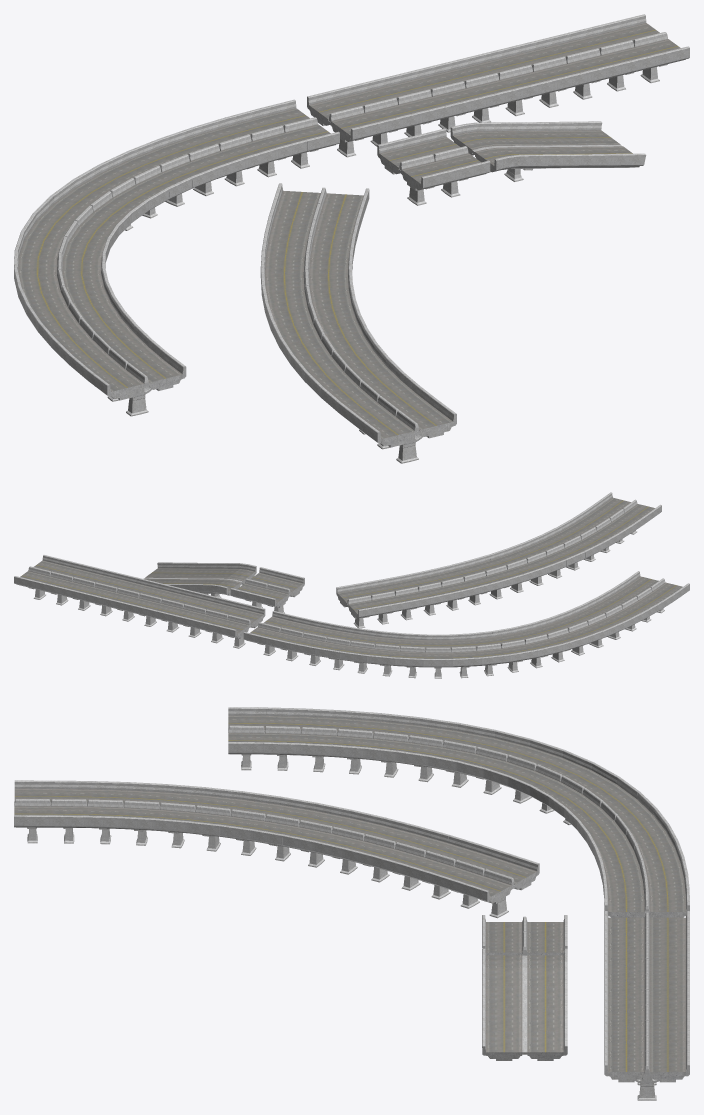
3 views of the same model, one above another, from view 1: azimuth 30°, elevation 25°; view 2: azimuth 150°, elevation 25°; view 3: azimuth 270°, elevation 25° (orthographic). The views are drawn at different scales.
Visible parts, largest first — view 1: Plane_0, Plane.003_3, Plane.001_1, Plane.004_4, Plane.002_2; view 2: Plane_0, Plane.003_3, Plane.001_1, Plane.004_4, Plane.002_2; view 3: Plane_0, Plane.003_3, Plane.001_1, Plane.004_4, Plane.002_2.
Boxes of the visible parts, x1,y1,x2,y2 form: Plane_0: (14,99,339,416); Plane.003_3: (260,183,456,463); Plane.001_1: (307,14,689,157); Plane.004_4: (450,121,646,181); Plane.002_2: (377,128,490,205); Plane_0: (243,571,689,678); Plane.003_3: (336,492,661,628); Plane.001_1: (14,555,265,648); Plane.004_4: (143,562,256,597); Plane.002_2: (230,567,304,613); Plane_0: (228,707,689,917); Plane.003_3: (14,780,539,918); Plane.001_1: (604,911,689,1100); Plane.004_4: (482,948,567,1060); Plane.002_2: (482,915,567,955).
Size of the model in its own units: 46.44 by 2.86 by 37.03.
Materials: 2 (2 with a texture image).
